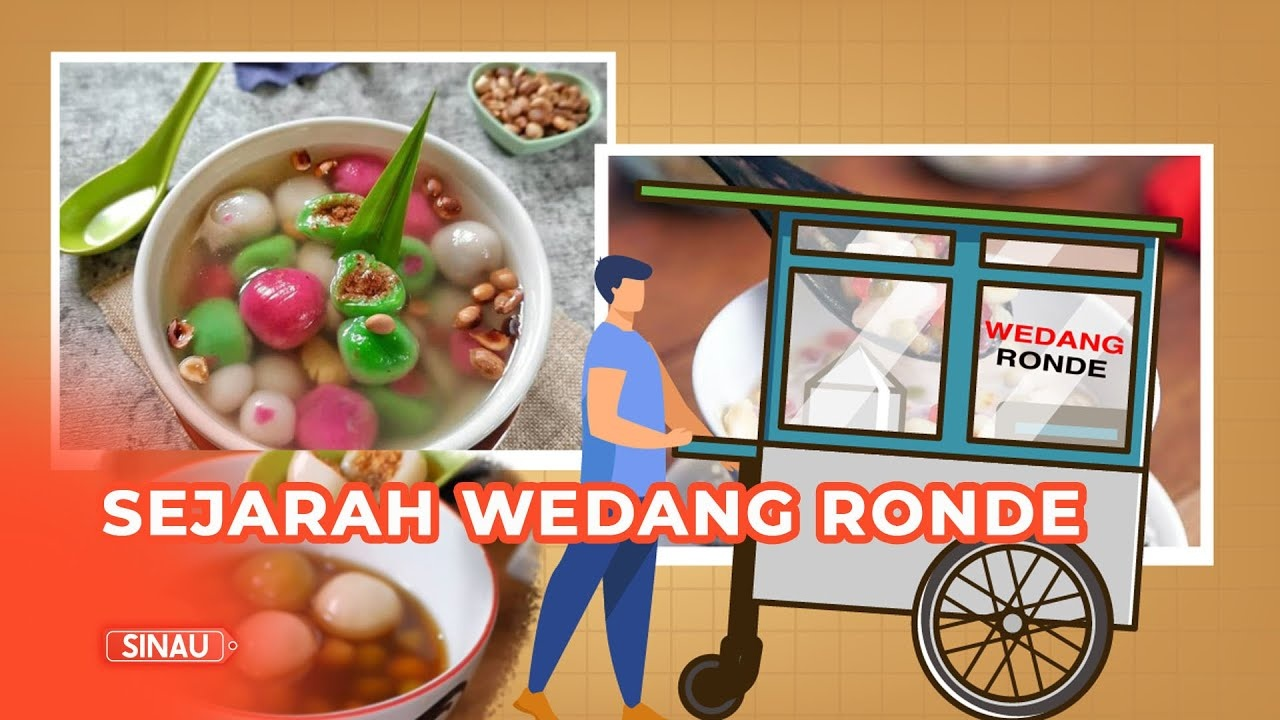ronde: (159, 144, 524, 448)
